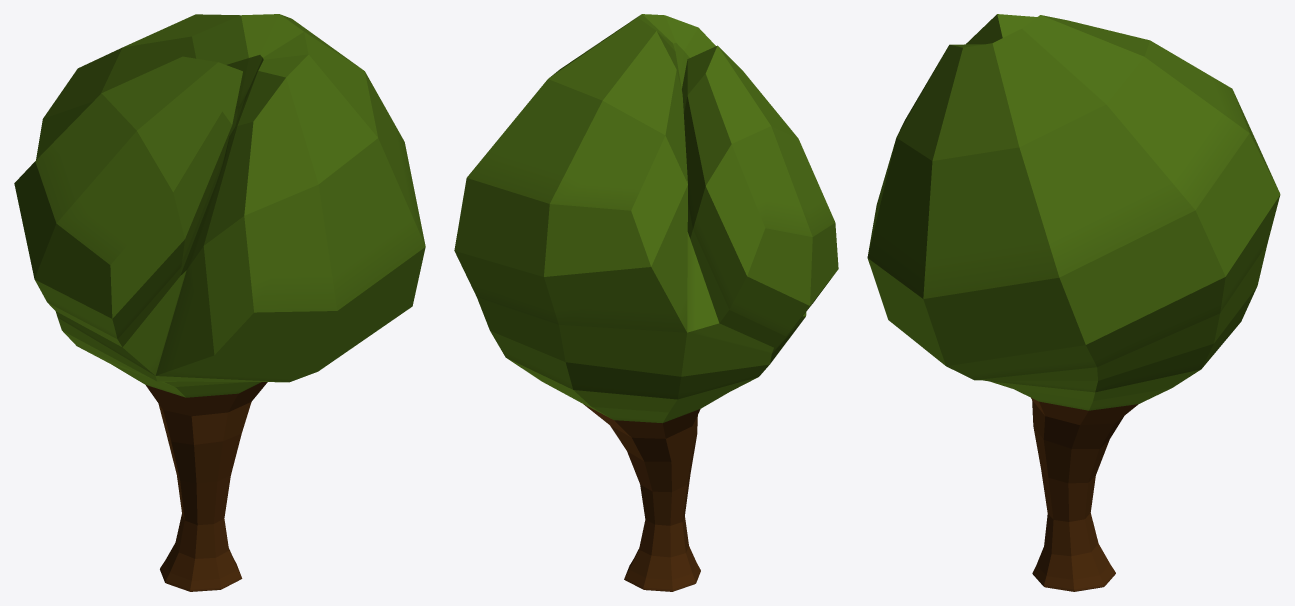
The model's file is res_tree.fbx.
The picture shows the model from 3 angles, left to right: view 1: azimuth 30°, elevation 25°; view 2: azimuth 150°, elevation 25°; view 3: azimuth 270°, elevation 25°; orthographic projection. The views are drawn at different scales.
Parts seen in each view (by area): view 1: Cube; view 2: Cube; view 3: Cube.
Part boxes in pixels (bbox=[...]): Cube: bbox=[14, 14, 425, 591]; Cube: bbox=[454, 14, 838, 591]; Cube: bbox=[867, 14, 1280, 591].
Size of the model in its own units: 447 by 677 by 442.
